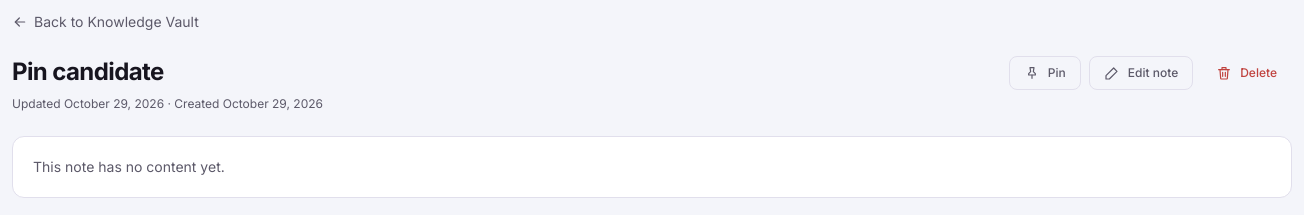
Scenario: NoteDetailPage › toggles pin state and reflects it immediately
Check: the heading "Pin candidate" is shown, box [12,56,164,88]
Click the button "Pin": (1045, 73) [1009,56,1081,90]
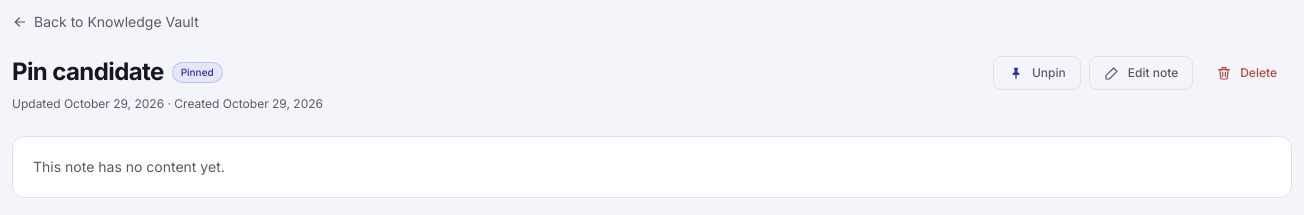
Check: the text "Pinned" is shown, box [172,62,223,82]
